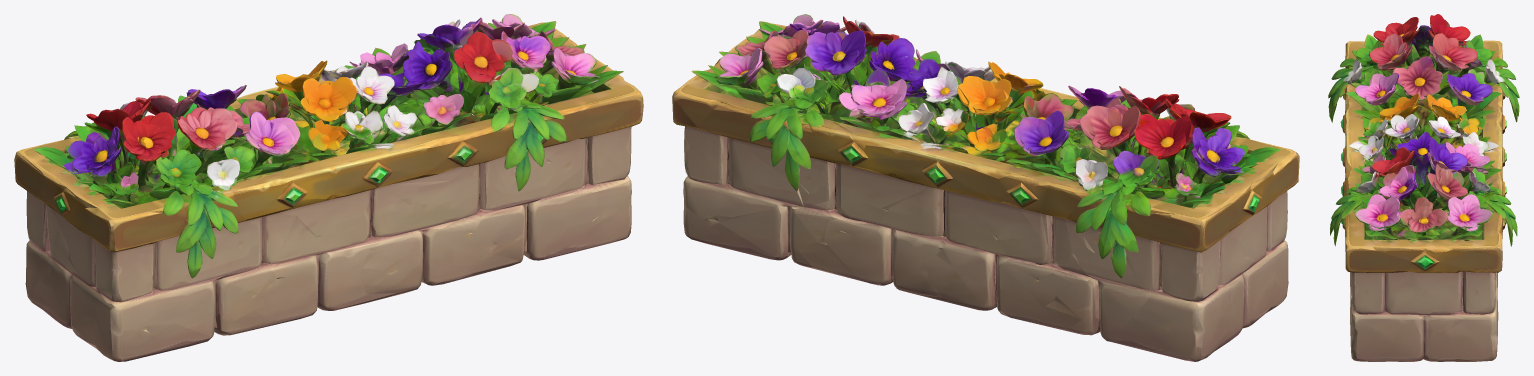
The model's file is et_planter.glb.
3 views of the same model, side by side, from view 1: azimuth 30°, elevation 25°; view 2: azimuth 150°, elevation 25°; view 3: azimuth 270°, elevation 25° (orthographic). The views are drawn at different scales.
Size of the model in its own units: 1.9 by 0.7162 by 0.7273.
Materials: 1 (1 with a texture image).
